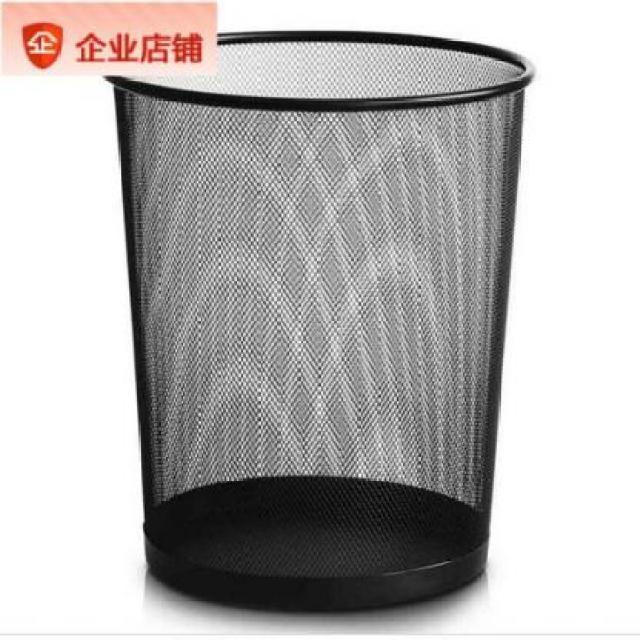dustbin: (98, 25, 541, 622)
